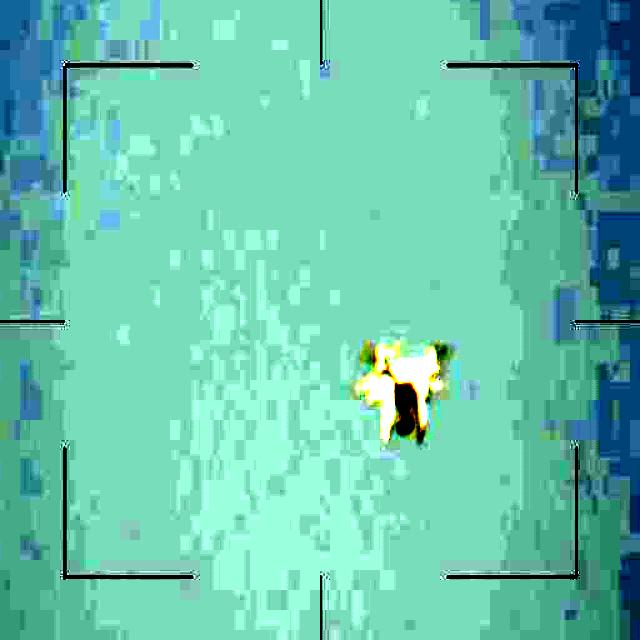bird: (346, 340, 449, 449)
